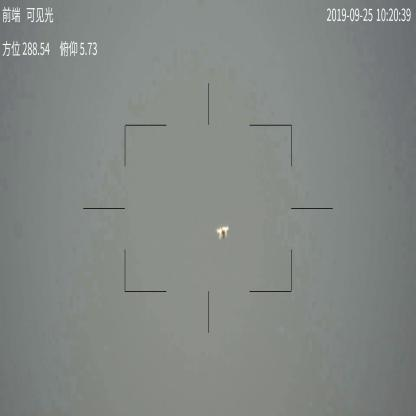uav: (214, 222, 231, 241)
